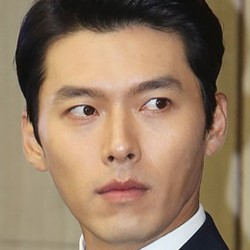unmask: (34, 72, 207, 241)
